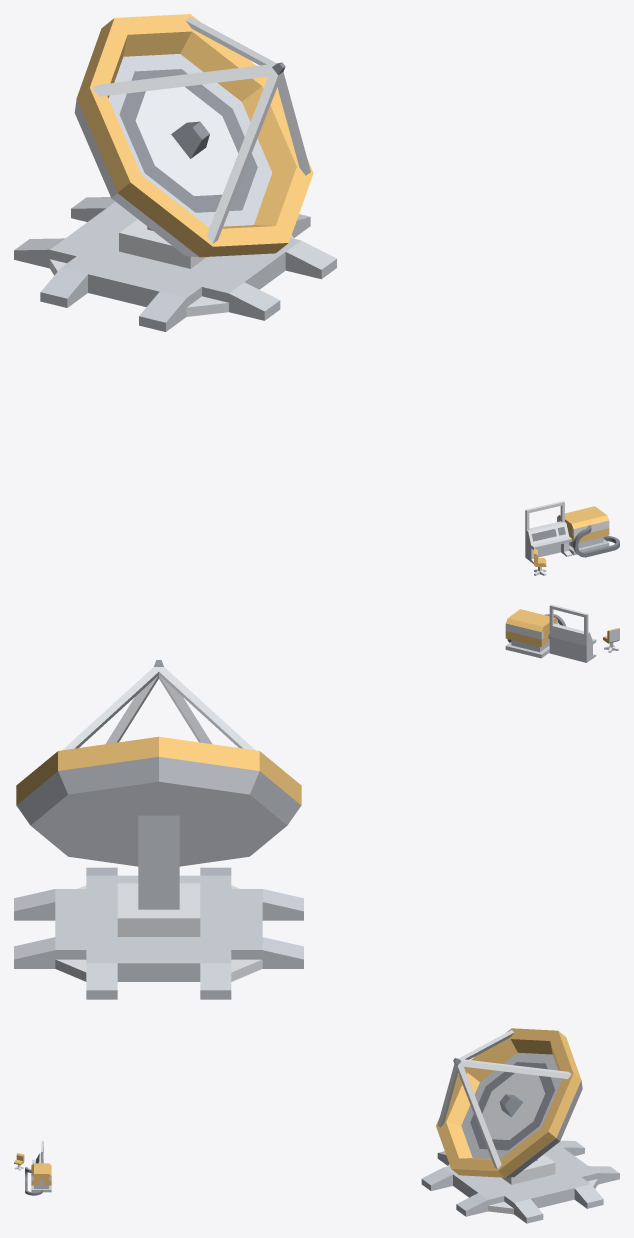
The model's file is Comms.glb.
3 views of the same model, one above another, from view 1: azimuth 30°, elevation 25°; view 2: azimuth 150°, elevation 25°; view 3: azimuth 270°, elevation 25° (orthographic). The views are drawn at different scales.
Parts seen in each view (by area): view 1: Mesh satelliteDish_detailed (×4), Mesh desk_computerScreen, Mesh machine_generator; view 2: Mesh satelliteDish_detailed (×3), Mesh desk_computerScreen (×2), Mesh machine_generator; view 3: Mesh satelliteDish_detailed (×4), Mesh machine_generator.
Boxes of the visible parts, <box> form: Mesh satelliteDish_detailed (×4): <box>14,14,336,331</box>; Mesh desk_computerScreen: <box>525,501,572,562</box>; Mesh machine_generator: <box>557,506,609,543</box>; Mesh satelliteDish_detailed (×3): <box>14,667,303,999</box>; Mesh desk_computerScreen (×2): <box>549,604,596,662</box>; Mesh machine_generator: <box>505,609,557,646</box>; Mesh satelliteDish_detailed (×4): <box>421,1028,619,1223</box>; Mesh machine_generator: <box>31,1163,51,1185</box>.
Size of the model in its own units: 3.91 by 3.08 by 11.93.
